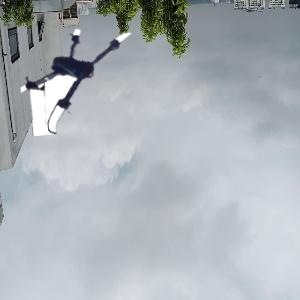drone: (19, 11, 141, 133)
